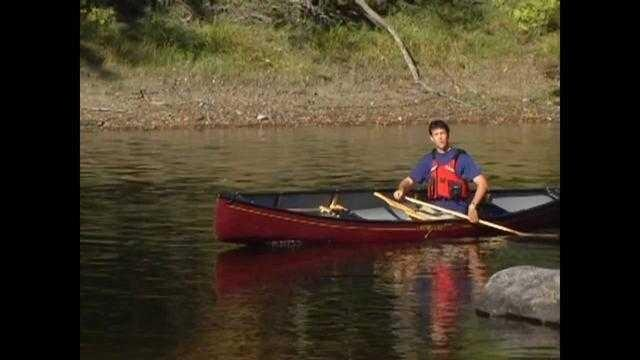kayak: (213, 187, 560, 250)
